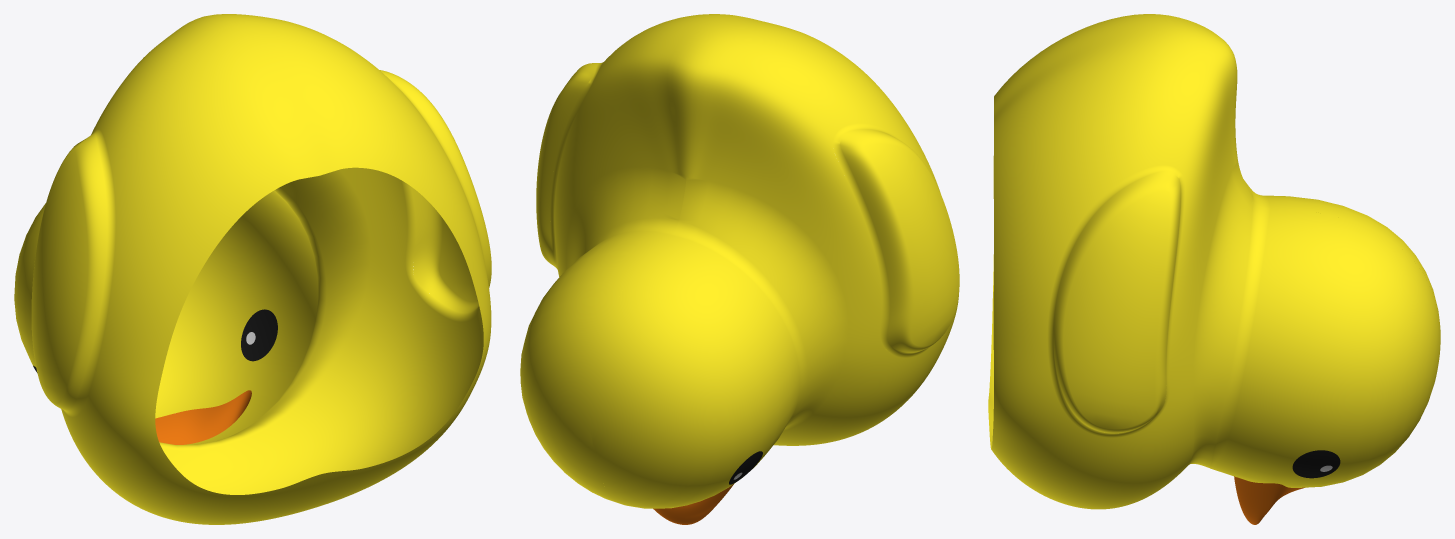
Rendered from Rubber_duck5.dae.
3 renders of one model, left to right at view 1: azimuth 30°, elevation 25°; view 2: azimuth 150°, elevation 25°; view 3: azimuth 270°, elevation 25°, orthographic. The views are drawn at different scales.
Visible parts, largest first — view 1: 6813e5c79cf3ed623bef01bd (×2); view 2: 6813e5c79cf3ed623bef01bd (×2); view 3: 6813e5c79cf3ed623bef01bd (×2).
Boxes of the visible parts, x1,y1,x2,y2 form: 6813e5c79cf3ed623bef01bd (×2): [14, 14, 491, 524]; 6813e5c79cf3ed623bef01bd (×2): [520, 14, 959, 524]; 6813e5c79cf3ed623bef01bd (×2): [988, 14, 1440, 524].
Bounding box in the file's own units: 0.1211 × 0.1131 × 0.1355.
